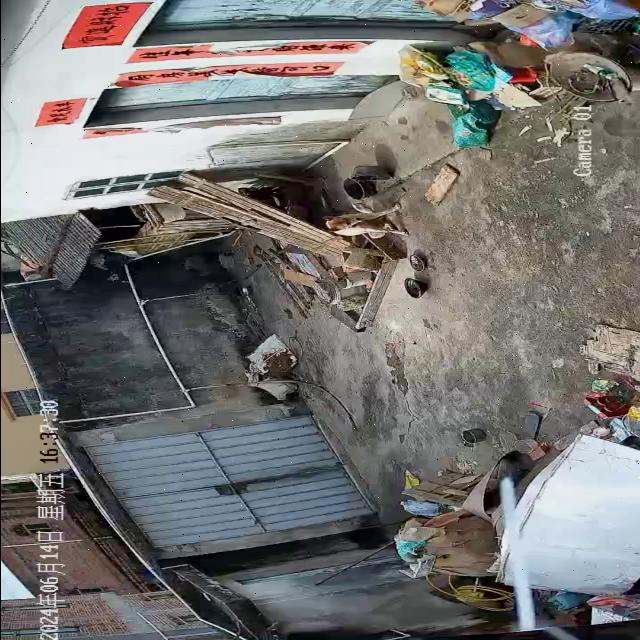dog: (321, 205, 409, 239)
